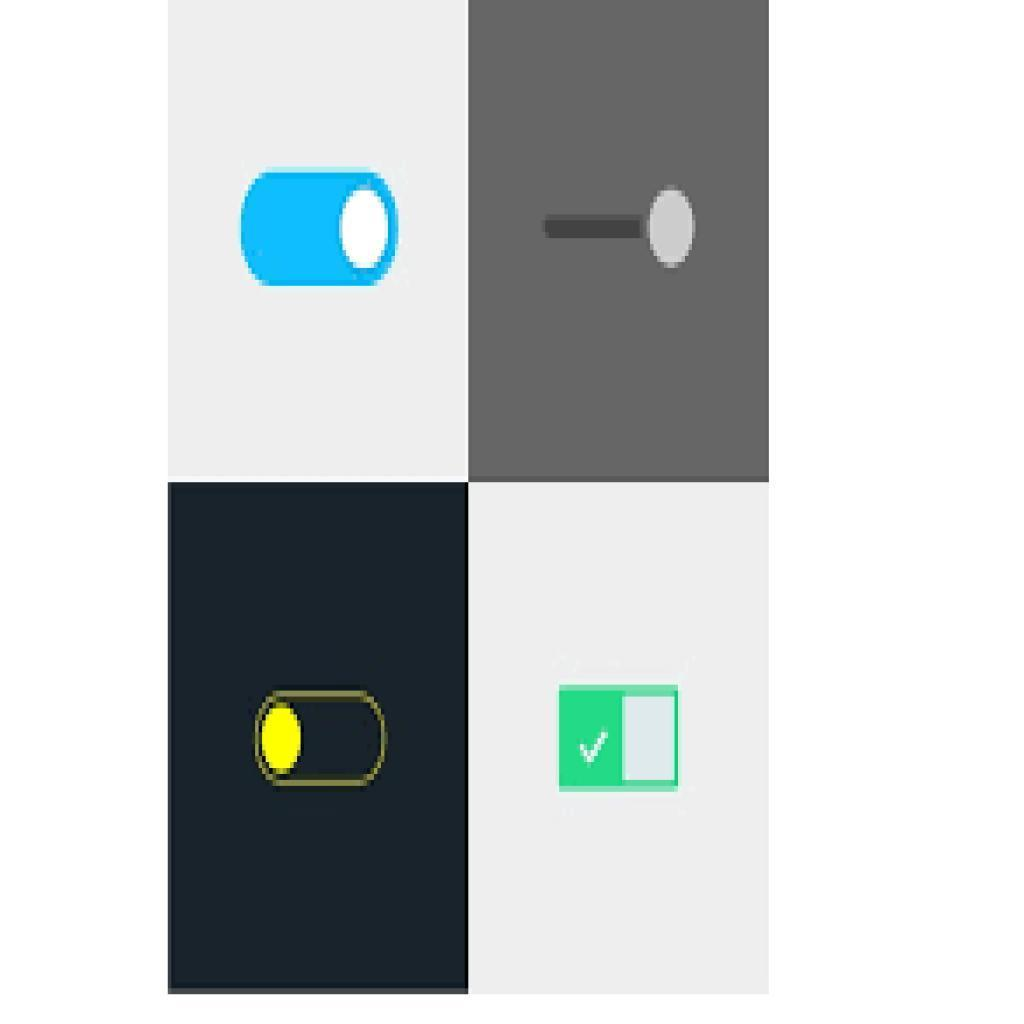slider: (540, 186, 700, 280)
switch: (242, 172, 400, 286), (557, 685, 681, 794), (255, 687, 386, 790)
